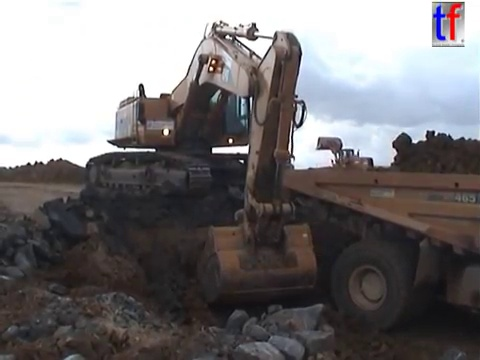excavator: (80, 17, 321, 307)
truck: (271, 165, 480, 336)
wheel loader: (313, 134, 377, 181)
